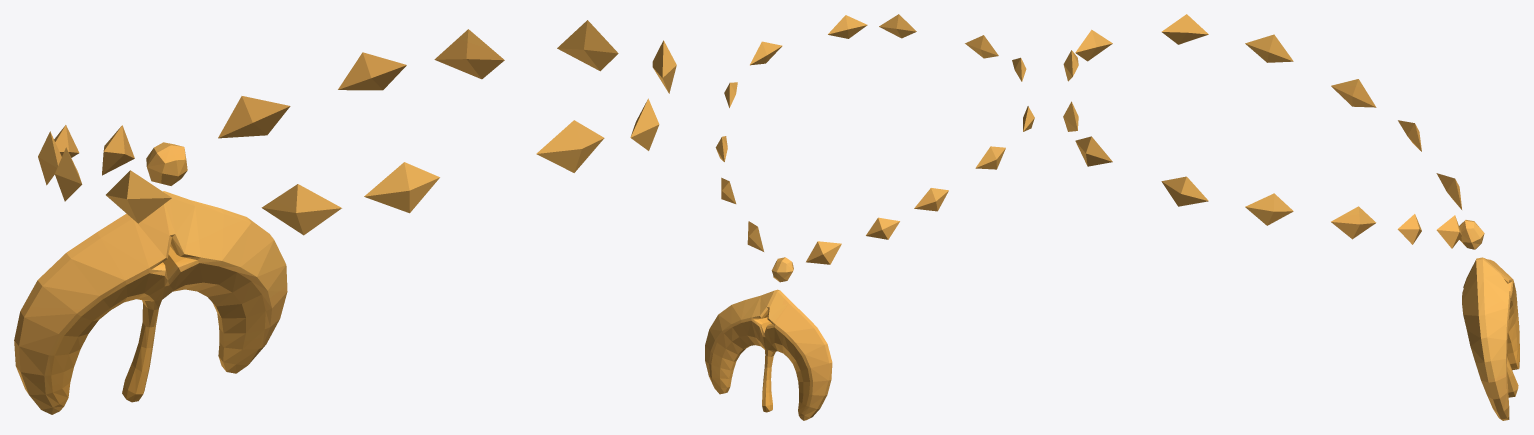
Rendered from CharSkyKid_Neck_AP07Pendant.glb.
3 views of the same model, side by side, from view 1: azimuth 30°, elevation 25°; view 2: azimuth 150°, elevation 25°; view 3: azimuth 270°, elevation 25° (orthographic). The views are drawn at different scales.
Visible parts, largest first — view 1: CharSkyKid_Neck_AP07Pendant; view 2: CharSkyKid_Neck_AP07Pendant; view 3: CharSkyKid_Neck_AP07Pendant.
Part boxes in pixels (<box>): CharSkyKid_Neck_AP07Pendant: <box>14,20,676,414</box>; CharSkyKid_Neck_AP07Pendant: <box>705,14,1034,420</box>; CharSkyKid_Neck_AP07Pendant: <box>1063,14,1519,420</box>.
Size of the model in its own units: 1.79 by 1.6 by 2.06.
1 material, 1 textured.
